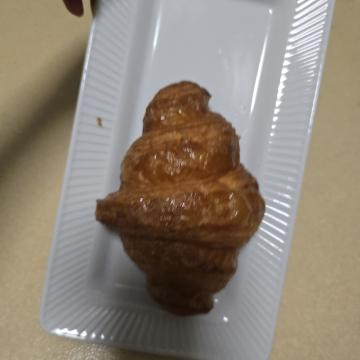croissant: (73, 87, 331, 275)
